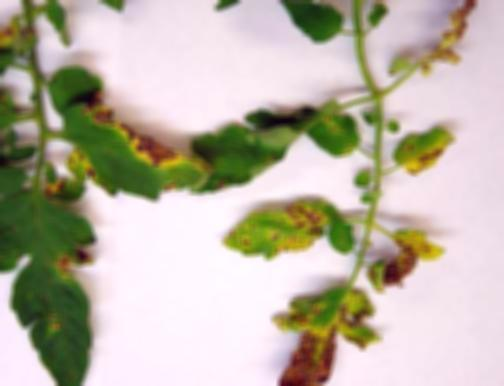Tomato Septoria leaf spot: (59, 84, 210, 216), (265, 293, 380, 385), (217, 200, 338, 269), (392, 112, 463, 178), (298, 98, 358, 163), (391, 225, 450, 268)
